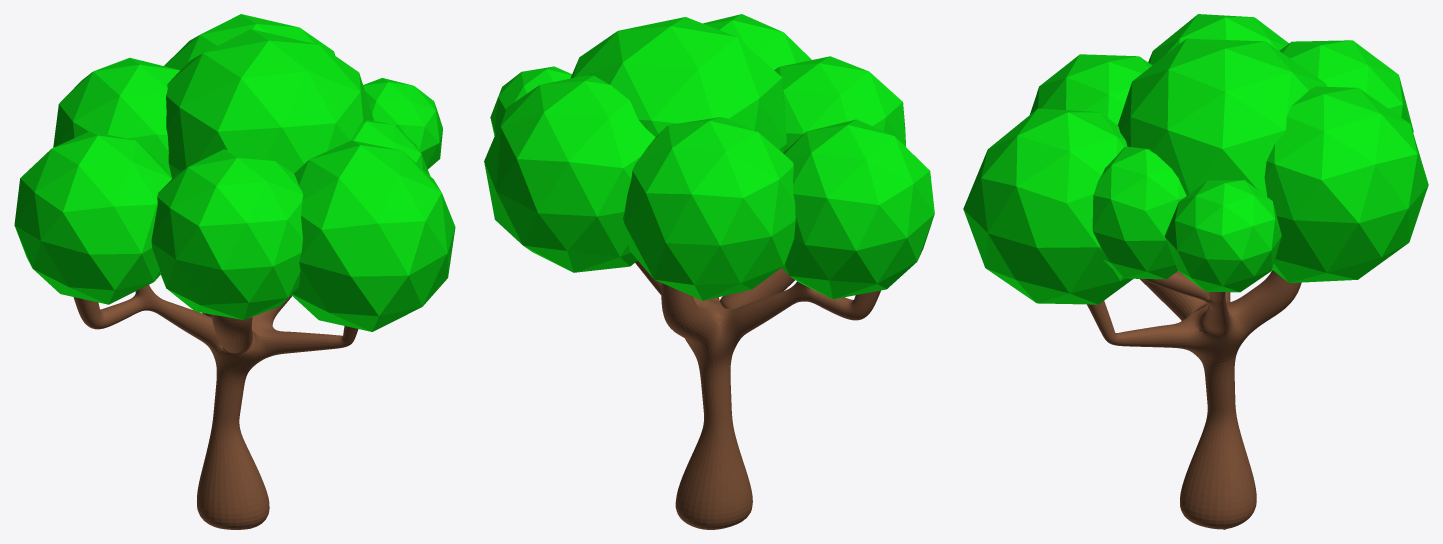
The model's file is LowPolyTree.fbx.
The picture shows the model from 3 angles, left to right: view 1: azimuth 30°, elevation 25°; view 2: azimuth 150°, elevation 25°; view 3: azimuth 270°, elevation 25°; orthographic projection. The views are drawn at different scales.
Visible parts, largest first — view 1: Leaves_1; view 2: Leaves_1; view 3: Leaves_1.
Boxes of the visible parts, left/top/right/bottom form: Leaves_1: left=14, top=14, right=455, bottom=529; Leaves_1: left=484, top=14, right=934, bottom=529; Leaves_1: left=963, top=14, right=1428, bottom=529.
Bounding box in the file's own units: 966 × 1071 × 918.
